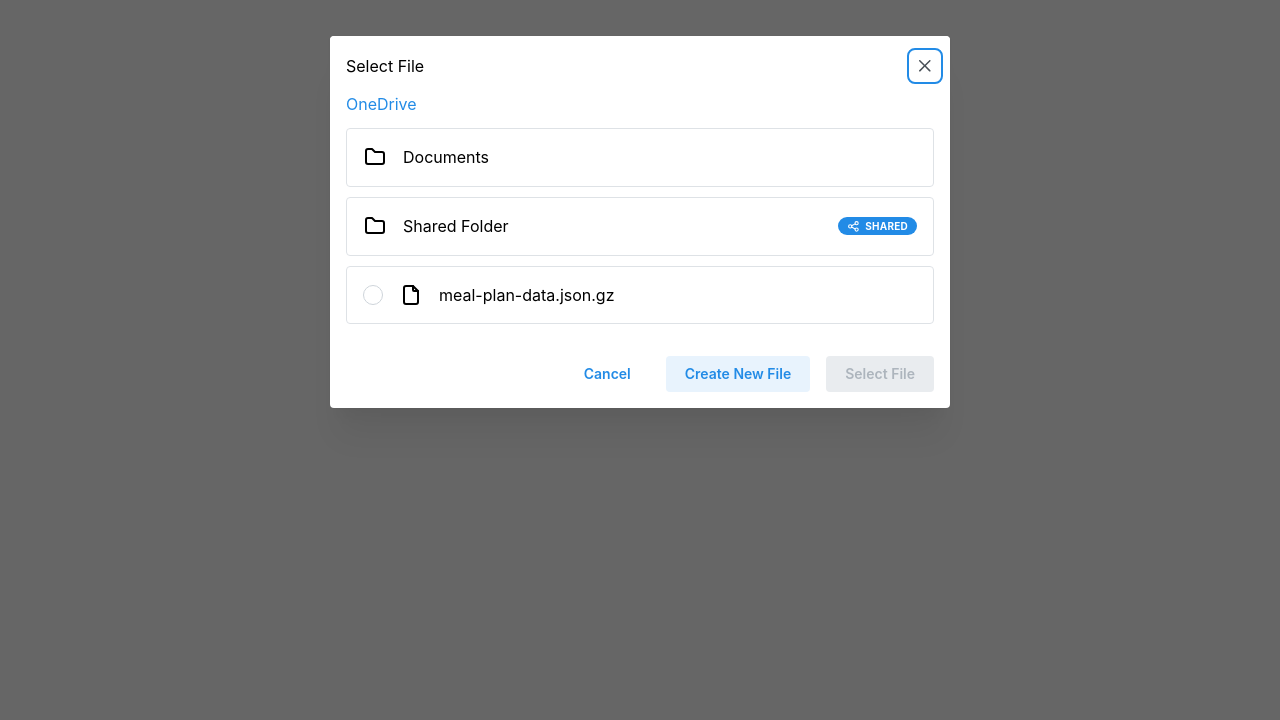
it: FileSelectionModal › File Selection › should enable select button when file is selected
Expected: the text "meal-plan-data.json.gz" is shown, left=439, top=285, right=614, bottom=305
Expected: the button "Select File" is disabled, left=826, top=356, right=934, bottom=392
Step 1. Click the radio button named "meal-plan-data.json.gz" → (373, 295), box left=363, top=285, right=383, bottom=305
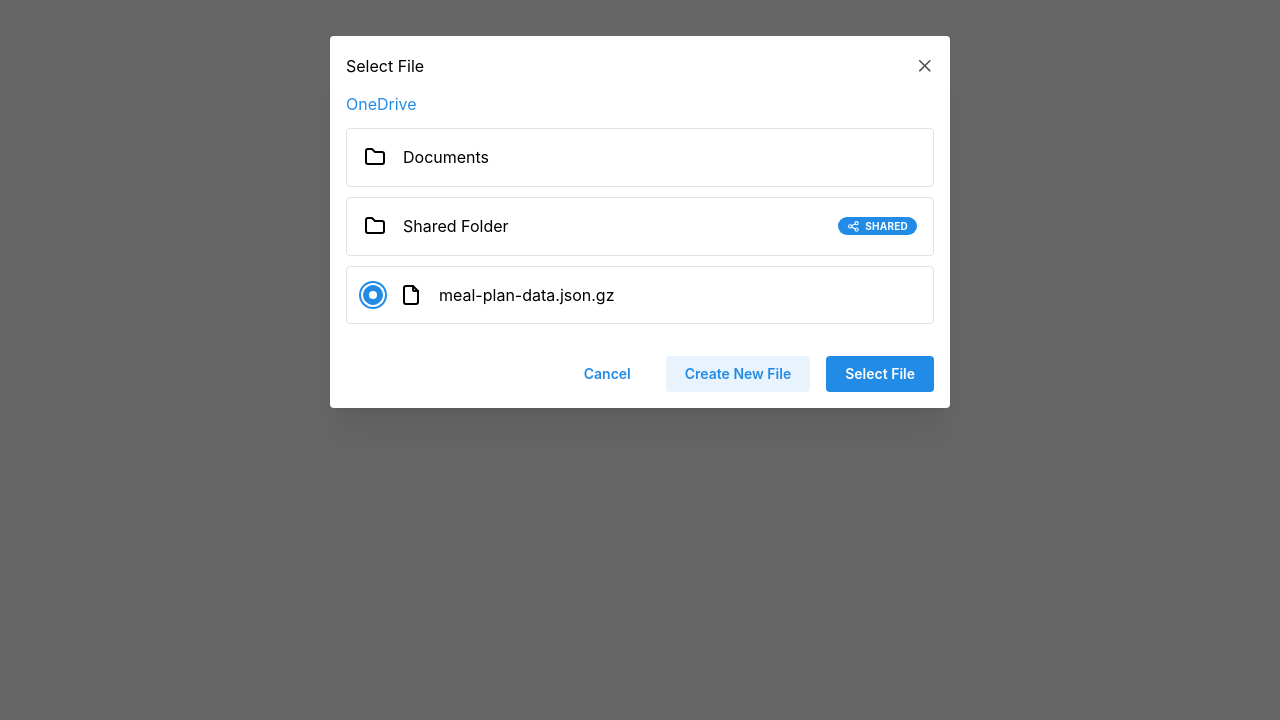
Expected: the button "Select File" is enabled, left=826, top=356, right=934, bottom=392
